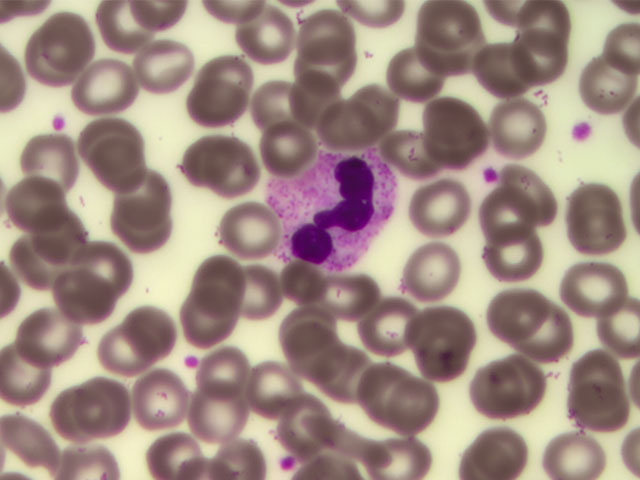Platelets: (569, 120, 597, 147), (480, 163, 500, 185), (273, 455, 298, 471), (50, 113, 68, 131), (185, 355, 200, 370)
RBC: (42, 12, 99, 65), (24, 31, 81, 84), (19, 134, 76, 187), (4, 172, 61, 225), (24, 203, 81, 256), (12, 232, 69, 285), (83, 239, 140, 292), (61, 265, 118, 318), (22, 315, 79, 368), (3, 353, 60, 406), (46, 390, 103, 443), (79, 378, 136, 431), (85, 325, 142, 378), (126, 308, 183, 361), (179, 293, 236, 346), (195, 248, 252, 301), (123, 208, 180, 261), (112, 169, 169, 222), (94, 136, 151, 189), (88, 108, 145, 161), (88, 61, 145, 114), (134, 35, 191, 88), (192, 81, 249, 134), (204, 55, 261, 108), (244, 10, 301, 63), (204, 140, 261, 193), (172, 139, 229, 192), (217, 201, 274, 254), (237, 268, 294, 321), (208, 344, 265, 397), (138, 372, 195, 425), (182, 383, 239, 436), (146, 427, 203, 480), (9, 427, 66, 480), (211, 427, 268, 480), (244, 361, 301, 414), (270, 384, 327, 437), (310, 415, 367, 468), (367, 427, 424, 480), (391, 375, 448, 428), (358, 360, 415, 413), (326, 348, 383, 401), (288, 329, 345, 382), (275, 300, 332, 353), (323, 270, 380, 323), (361, 297, 418, 350), (415, 301, 472, 354), (425, 336, 482, 389), (464, 370, 521, 423), (492, 359, 549, 412), (470, 427, 527, 480), (542, 427, 599, 480), (567, 385, 624, 438), (569, 346, 626, 399), (523, 313, 580, 366), (481, 289, 538, 342), (409, 243, 466, 296), (421, 181, 478, 234), (380, 125, 437, 178), (429, 92, 486, 145), (390, 44, 447, 97), (353, 76, 410, 129), (322, 93, 379, 146), (295, 78, 352, 131), (259, 79, 316, 132), (267, 115, 324, 168), (306, 44, 363, 97), (307, 10, 364, 63), (481, 44, 538, 97), (509, 29, 566, 82), (514, 1, 571, 54), (493, 102, 550, 155), (505, 164, 562, 217), (491, 191, 548, 244), (490, 225, 547, 278), (560, 266, 617, 319), (560, 218, 617, 271), (569, 164, 626, 217), (583, 50, 640, 103), (415, 1, 472, 53), (600, 305, 640, 348)
WBC: (273, 158, 397, 271)
